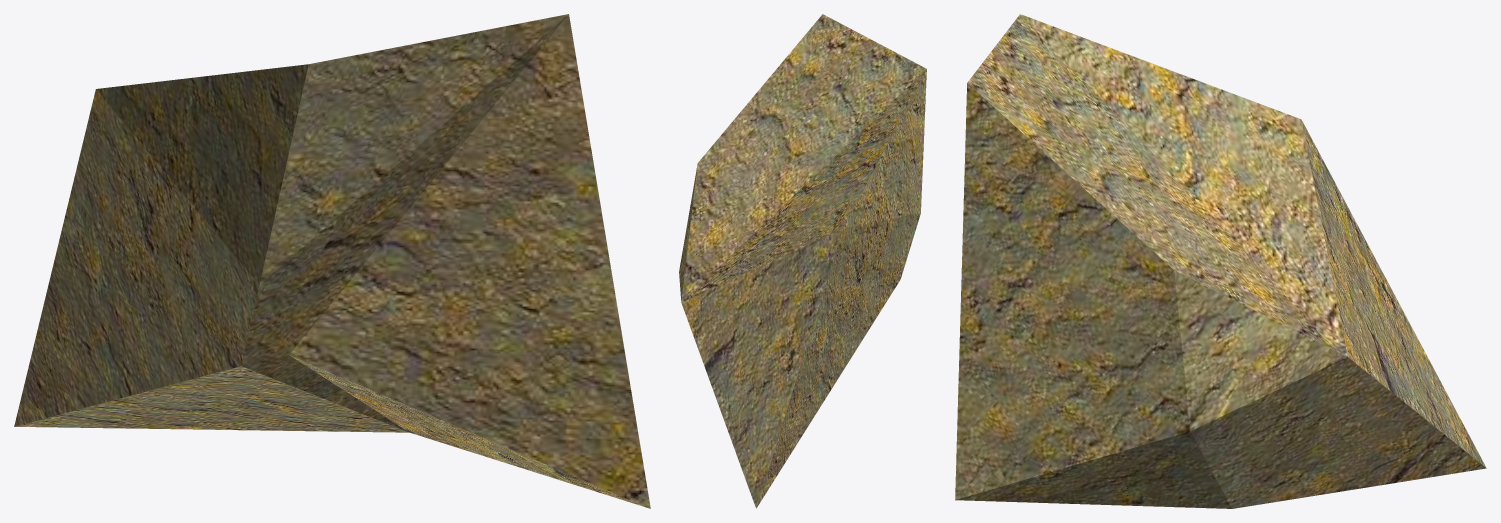
File: rock9.fbx
3 renders of one model, left to right at view 1: azimuth 30°, elevation 25°; view 2: azimuth 150°, elevation 25°; view 3: azimuth 270°, elevation 25°, orthographic. The views are drawn at different scales.
Visible parts, largest first — view 1: Rock9; view 2: Rock9; view 3: Rock9.
Boxes of the visible parts, x1,y1,x2,y2 form: Rock9: [14, 14, 650, 508]; Rock9: [679, 14, 926, 508]; Rock9: [955, 14, 1486, 508].
Bounding box in the file's own units: 9.3 × 14.45 × 14.92.
